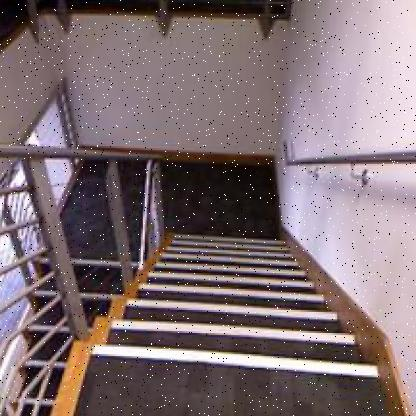stair_down: (93, 266, 366, 395)
